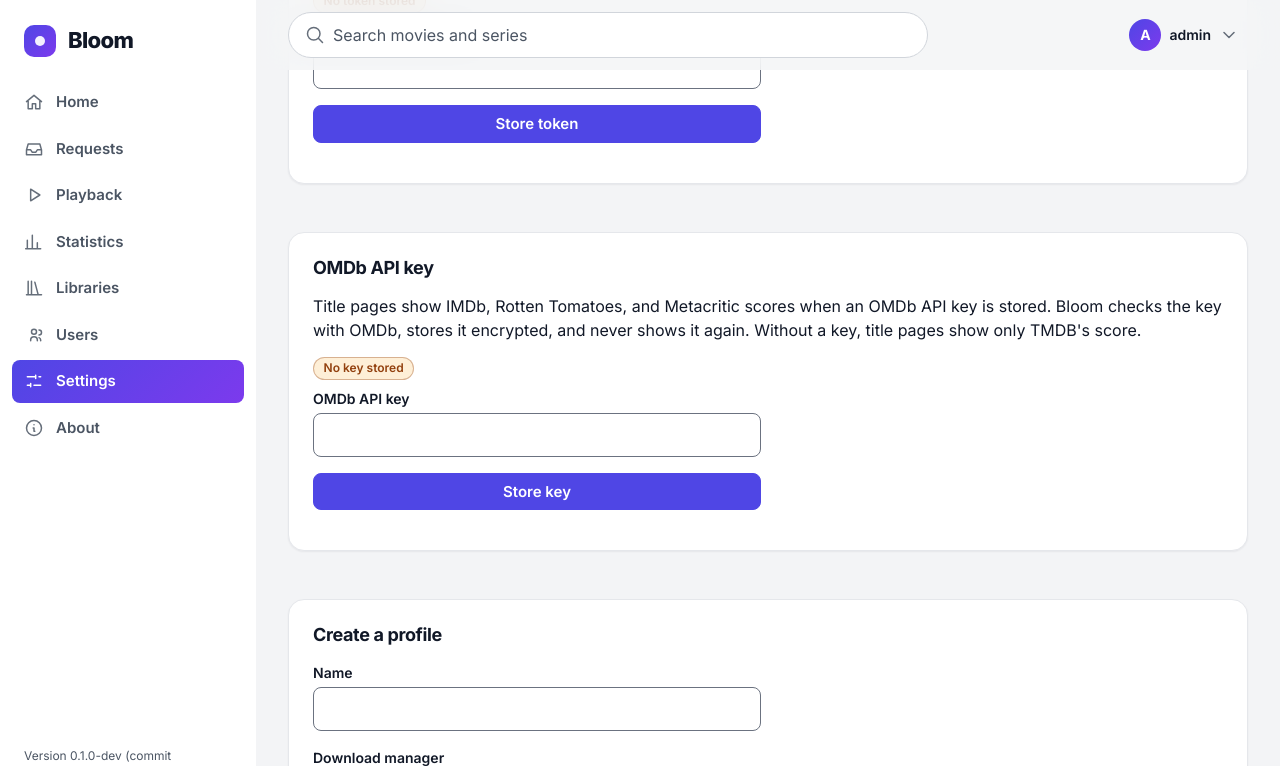
Test: says when OMDb does not accept a key
(page scrolled)
Type "rejected0" into the password field labelled "OMDb API key" at (537, 435), box [313, 413, 761, 457]
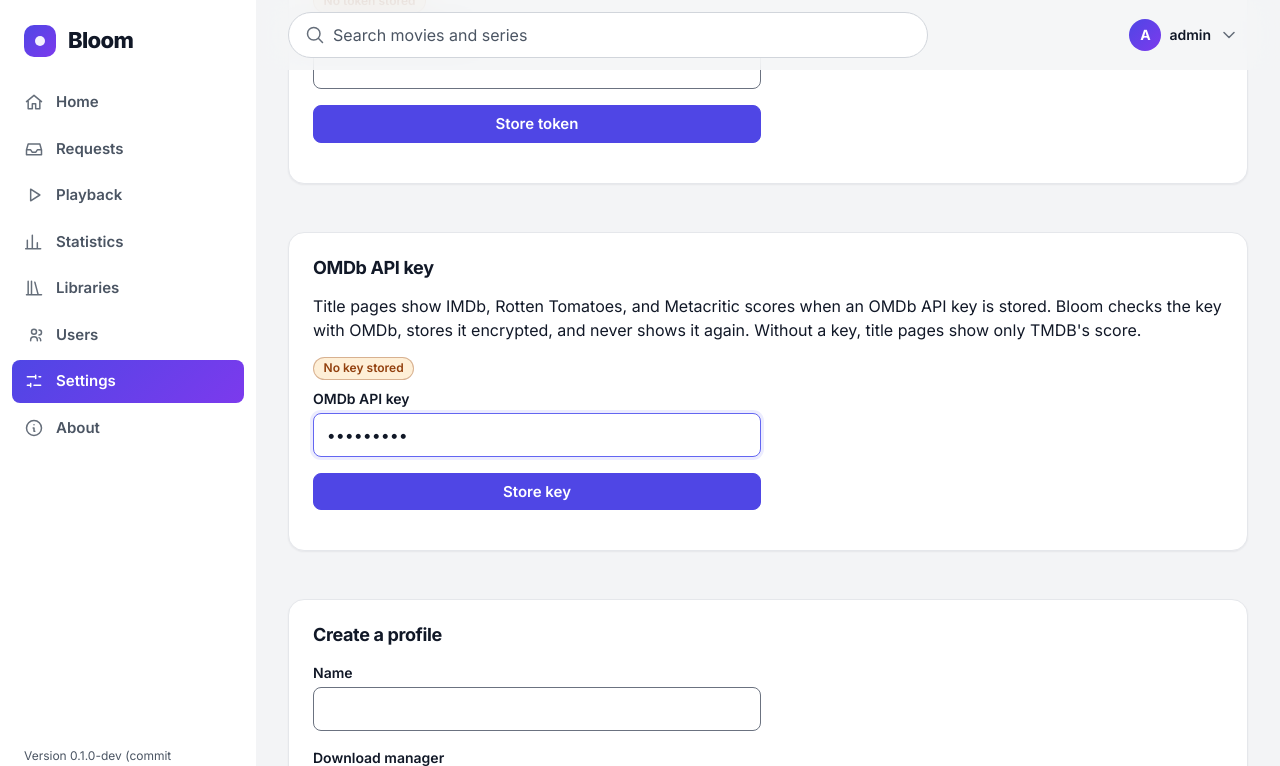
Click the button "Store key" at (537, 492), box [313, 473, 761, 510]
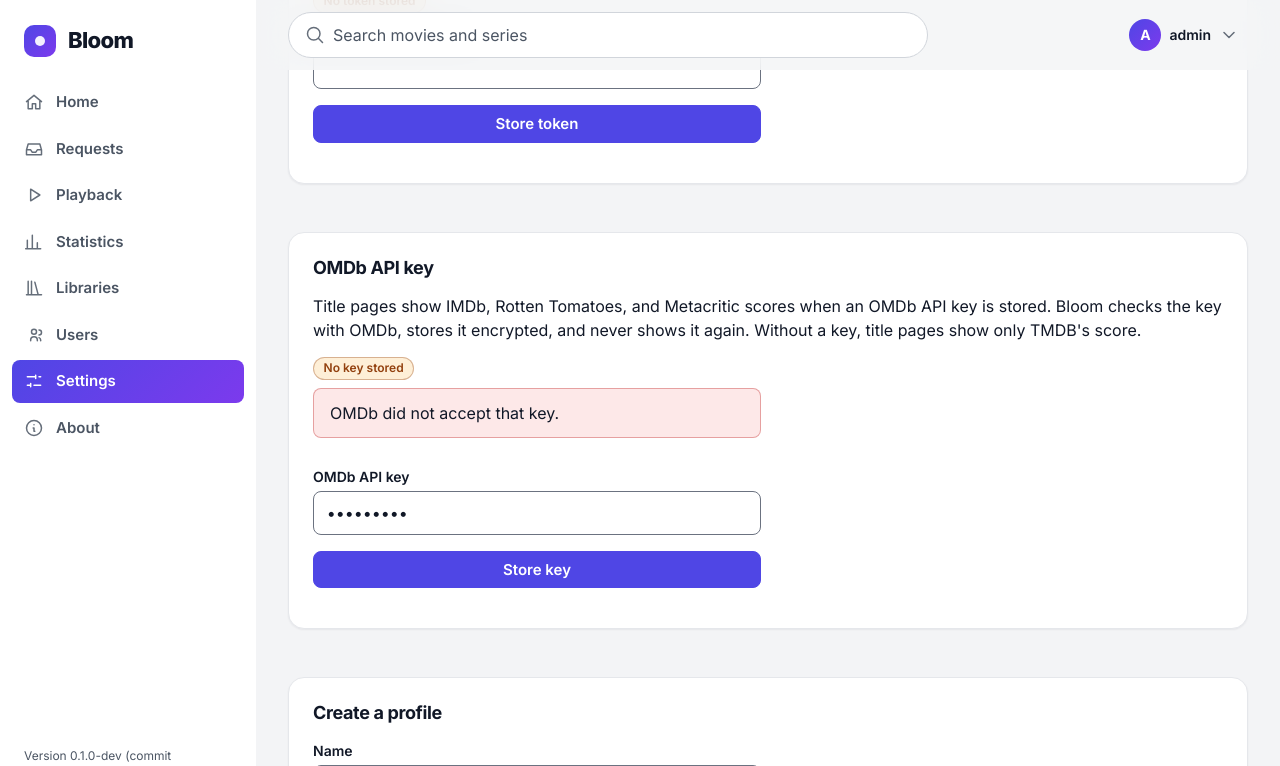
Expected: the message reads "OMDb did not accept that key.", [330, 403, 559, 423]
